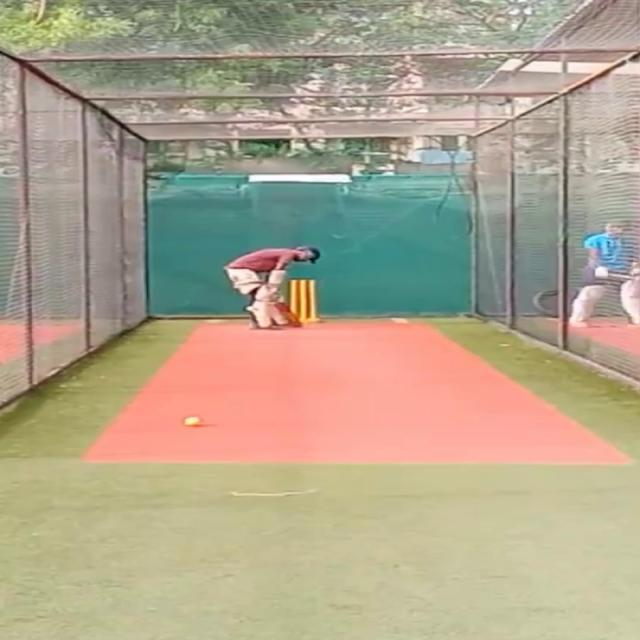ball: (184, 415, 205, 427)
stump: (289, 278, 321, 323)
